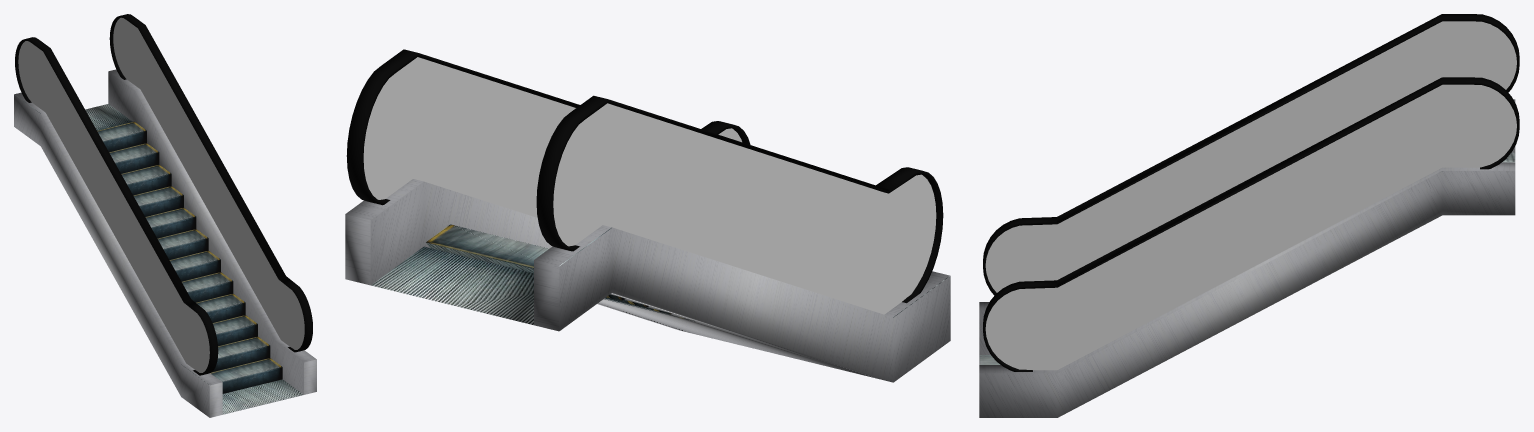
Rendered from esc.fbx.
3 renders of one model, left to right at view 1: azimuth 30°, elevation 25°; view 2: azimuth 150°, elevation 25°; view 3: azimuth 270°, elevation 25°, orthographic. The views are drawn at different scales.
Parts seen in each view (by area): view 1: Plane.001, Plane.004, Cube, Plane.002; view 2: Plane.001, Plane.004, Plane.002, Cube; view 3: Plane.001, Plane.004, Plane.002.
Part boxes in pixels (bbox=[...]): Plane.001: bbox=[18, 17, 304, 372]; Plane.004: bbox=[14, 69, 316, 417]; Cube: bbox=[97, 121, 282, 393]; Plane.002: bbox=[15, 14, 312, 375]; Plane.001: bbox=[363, 57, 936, 314]; Plane.004: bbox=[345, 179, 950, 382]; Plane.002: bbox=[346, 49, 943, 303]; Cube: bbox=[426, 224, 694, 321]; Plane.001: bbox=[985, 21, 1516, 370]; Plane.004: bbox=[979, 99, 1515, 417]; Plane.002: bbox=[983, 14, 1519, 371].
Size of the model in its own units: 256 by 556 by 816.
